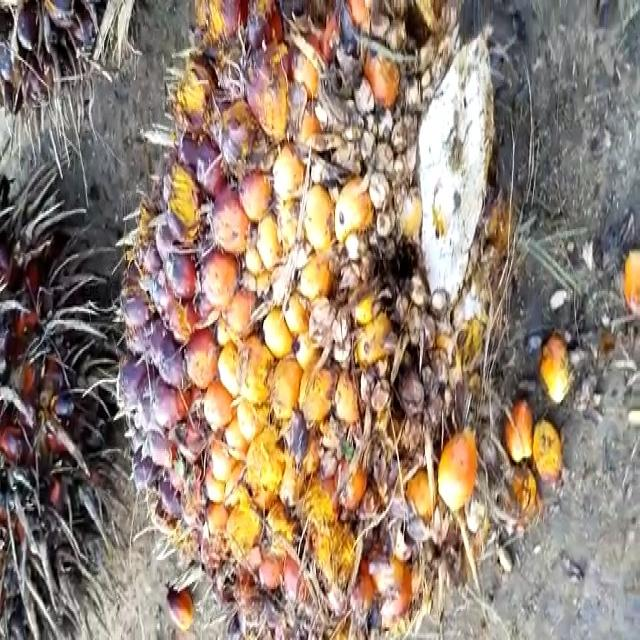palm oil: (115, 17, 583, 640)
